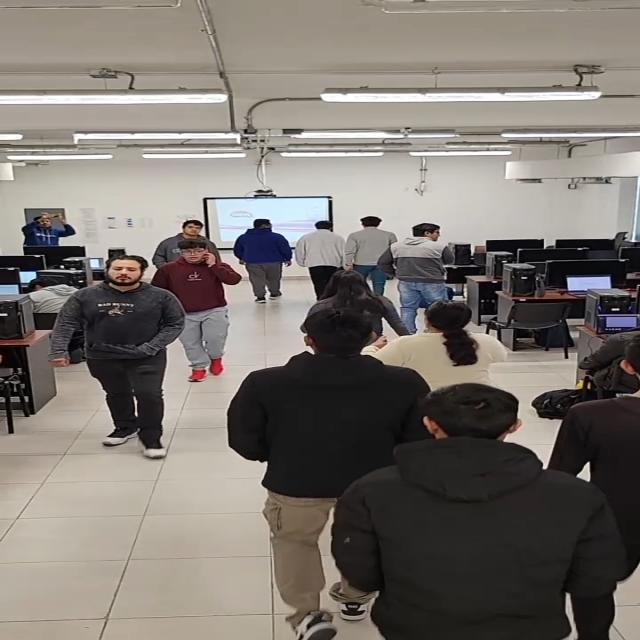Persona: (326, 384, 612, 584), (248, 310, 409, 498), (53, 252, 186, 460), (158, 241, 232, 377), (405, 300, 499, 382), (236, 214, 293, 300), (401, 215, 454, 306), (318, 271, 395, 317), (345, 217, 392, 282), (298, 218, 337, 288), (151, 213, 216, 249), (24, 209, 73, 249)
